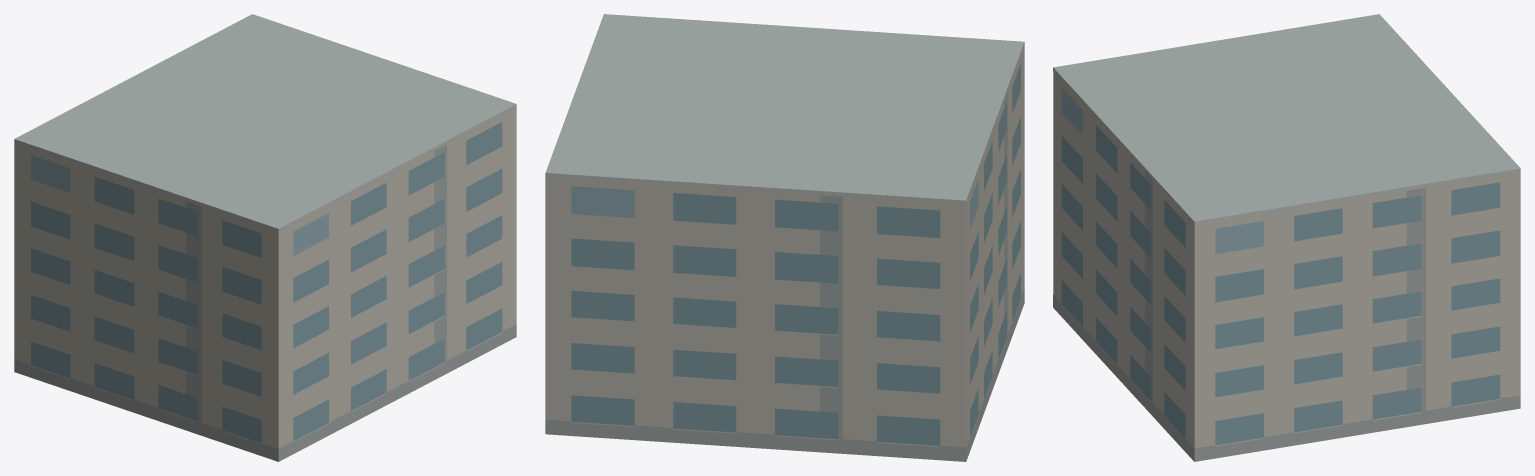
Rendered from residential-4fbfdb9d-508b-48e3-ad4c-7f41c899df67.glb.
3 views of the same model, side by side, from view 1: azimuth 30°, elevation 25°; view 2: azimuth 150°, elevation 25°; view 3: azimuth 270°, elevation 25° (orthographic). The views are drawn at different scales.
Visible parts, largest first — view 1: residential-4fbfdb9d-508b-48e3-ad4c-7f41c899df67.tmp; view 2: residential-4fbfdb9d-508b-48e3-ad4c-7f41c899df67.tmp; view 3: residential-4fbfdb9d-508b-48e3-ad4c-7f41c899df67.tmp.
Boxes of the visible parts, box(x1,y1,x2,y2) form: residential-4fbfdb9d-508b-48e3-ad4c-7f41c899df67.tmp: box(14, 14, 516, 461); residential-4fbfdb9d-508b-48e3-ad4c-7f41c899df67.tmp: box(545, 14, 1024, 461); residential-4fbfdb9d-508b-48e3-ad4c-7f41c899df67.tmp: box(1053, 14, 1520, 461).
Bounding box in the file's own units: 28.28 × 15.25 × 26.91.
